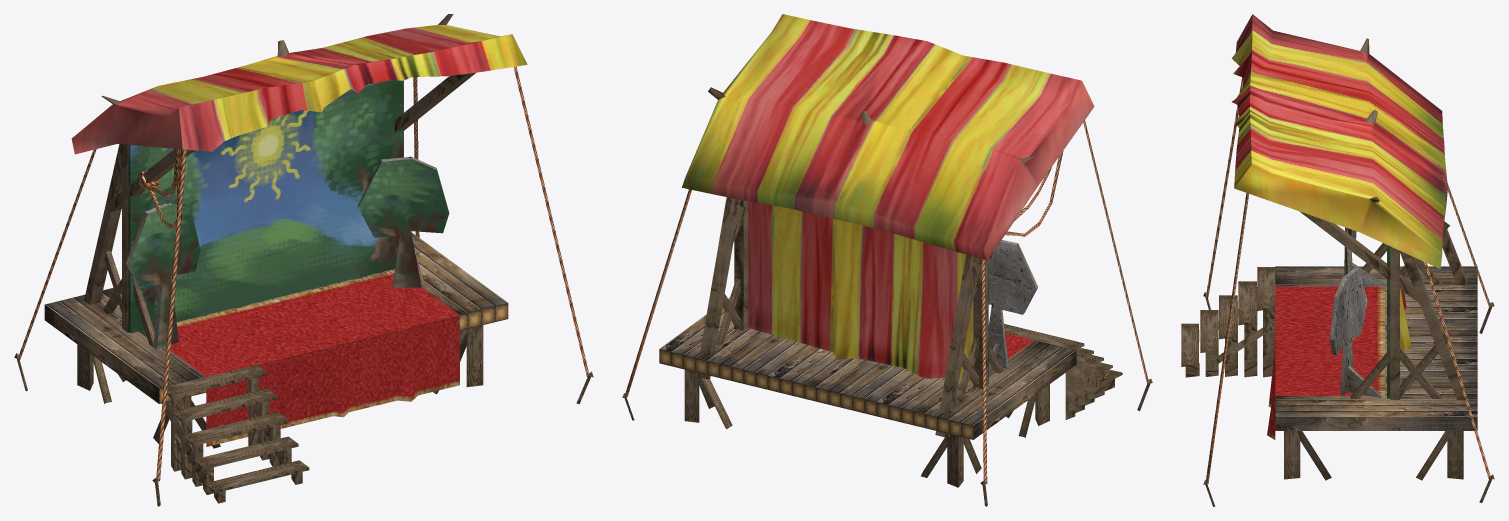
The model's file is building_travelling_fair.glb.
The picture shows the model from 3 angles, left to right: view 1: azimuth 30°, elevation 25°; view 2: azimuth 150°, elevation 25°; view 3: azimuth 270°, elevation 25°; orthographic projection. The views are drawn at different scales.
Parts seen in each view (by area): view 1: building_travelling_fair; view 2: building_travelling_fair; view 3: building_travelling_fair.
Boxes of the visible parts, <box> form: building_travelling_fair: <box>14,14,593,506</box>; building_travelling_fair: <box>622,14,1152,506</box>; building_travelling_fair: <box>1181,14,1494,506</box>.
Bounding box in the file's own units: 9.67 × 7.87 × 6.76.
8 materials, 8 textured.
